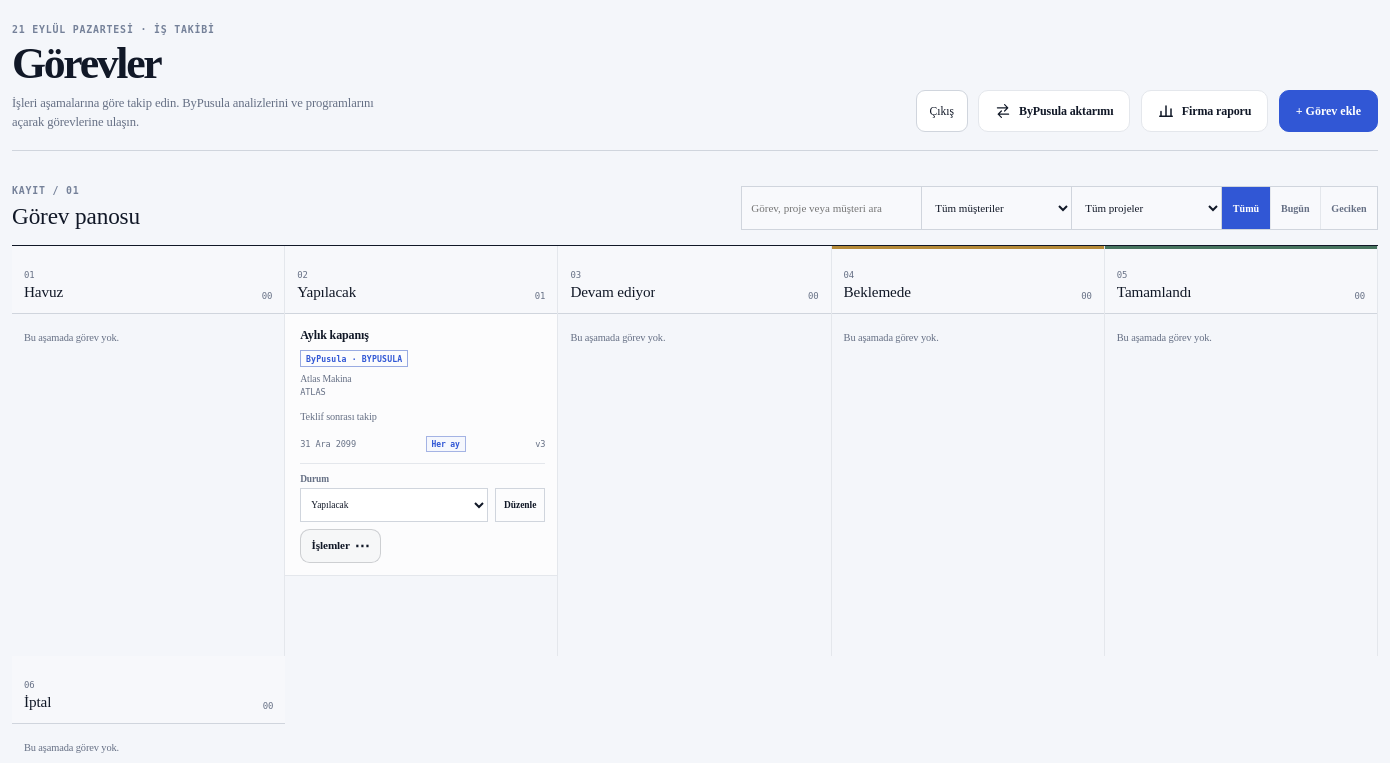
Test: TasksWorkspace › reloads the board when a recurring task is completed from the editor
Click the button with aria-label "Aylık kapanış görevini düzenle" at (520, 505), box x1=495 y1=488 x2=545 y2=522
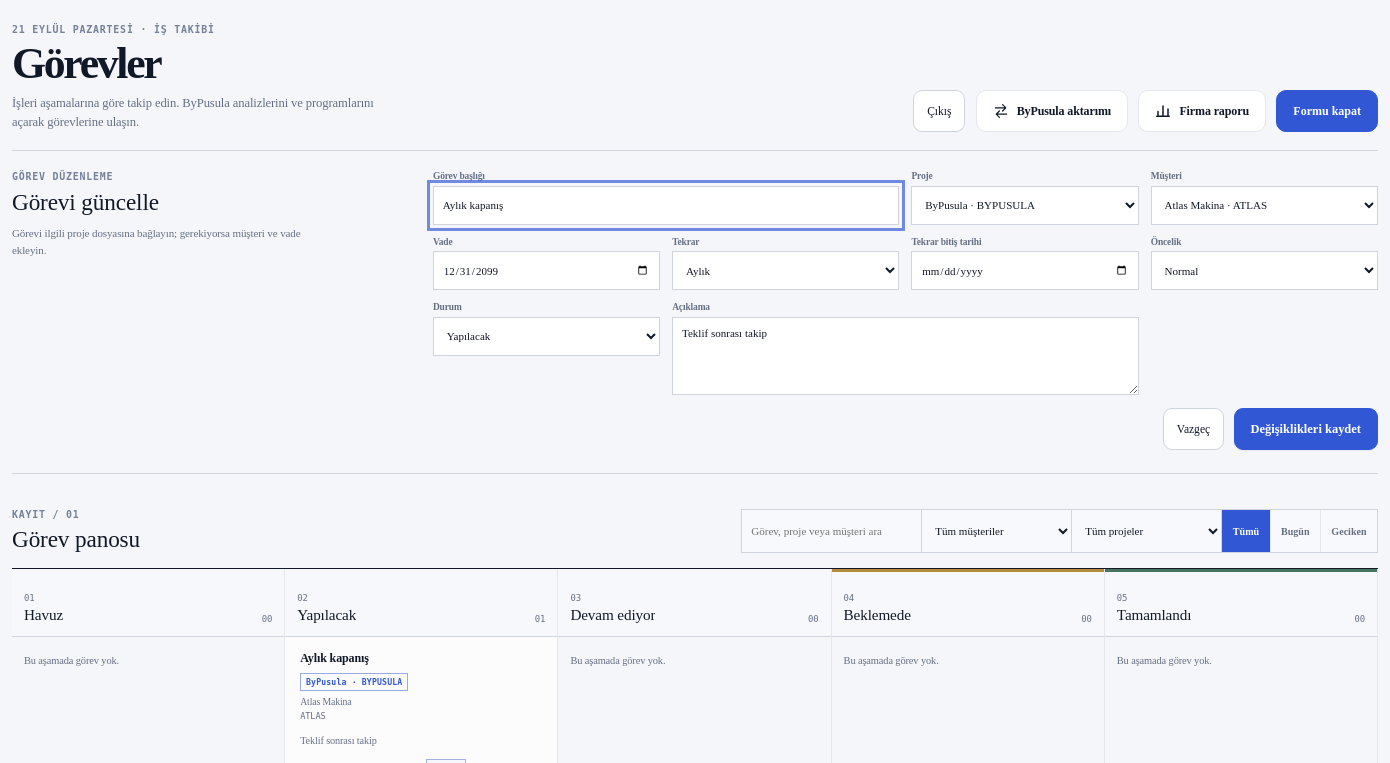
Select "Tamamlandı" in the dropdown labelled "Durum" at (547, 336), box x1=433 y1=316 x2=660 y2=356
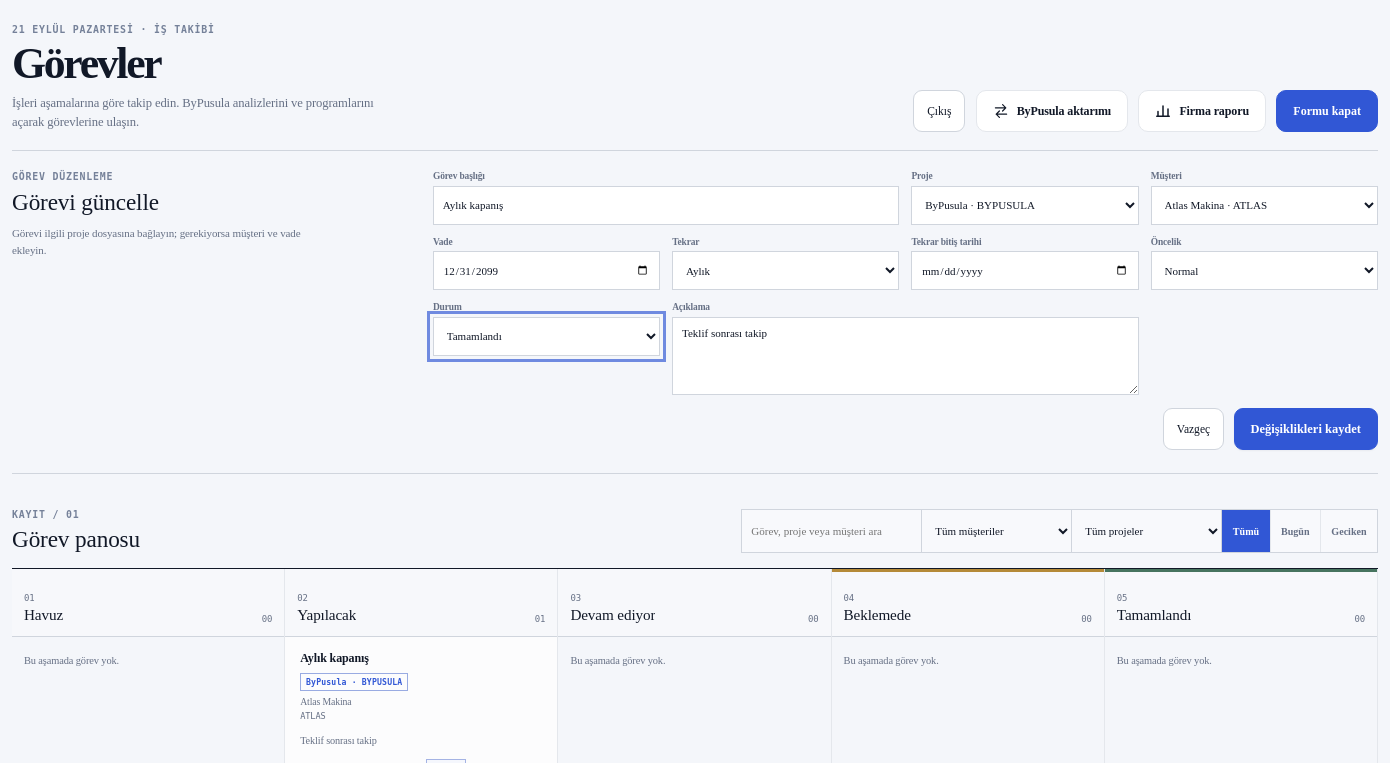
Click the button "Değişiklikleri kaydet" at (1306, 429), box x1=1234 y1=408 x2=1378 y2=450
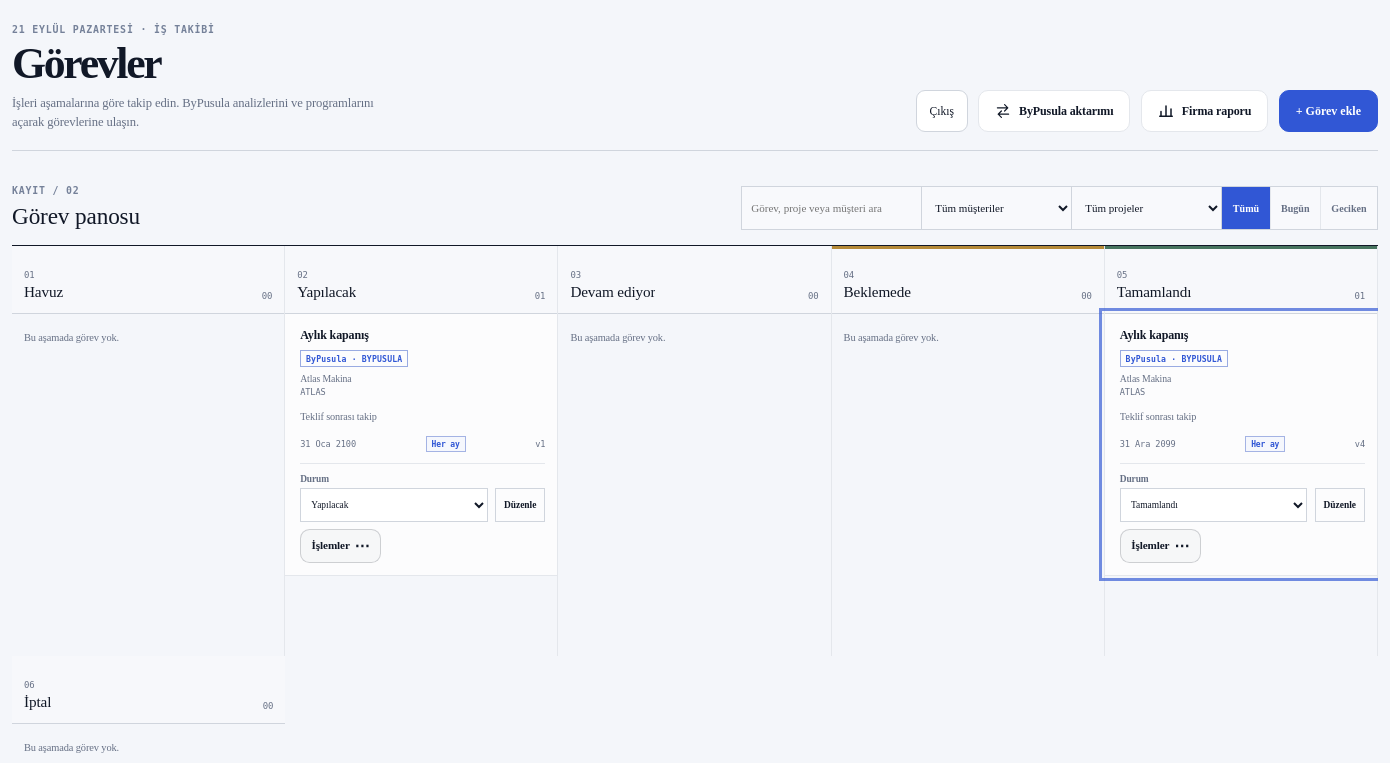
Result: the number of elements "Aylık kapanış" is 2 at x1=285 y1=314 x2=557 y2=575; x1=1105 y1=314 x2=1377 y2=575
